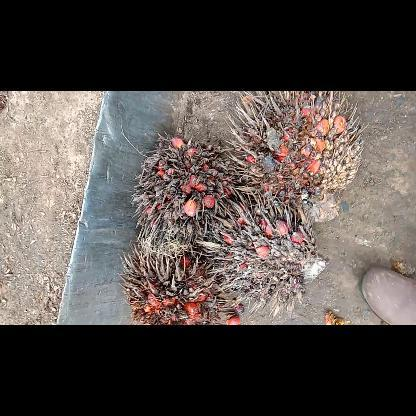Terlalu masak: (226, 90, 370, 224), (126, 130, 264, 258), (198, 192, 336, 318), (113, 238, 236, 324)
